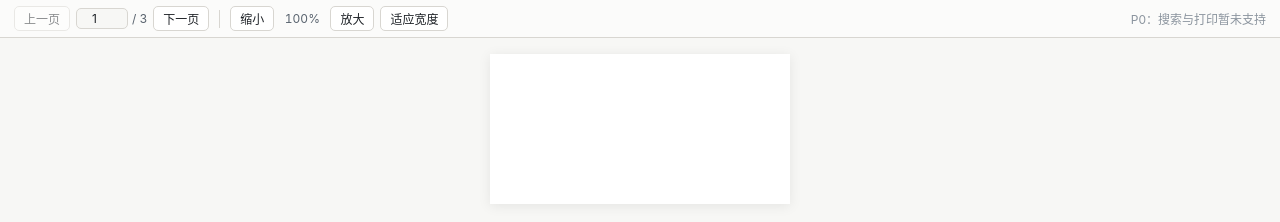
it: PdfViewer › navigates pages with buttons
The width and height of the screenshot is (1280, 222).
Click the button "下一页".
click(181, 18)  # box [153,6,209,31]
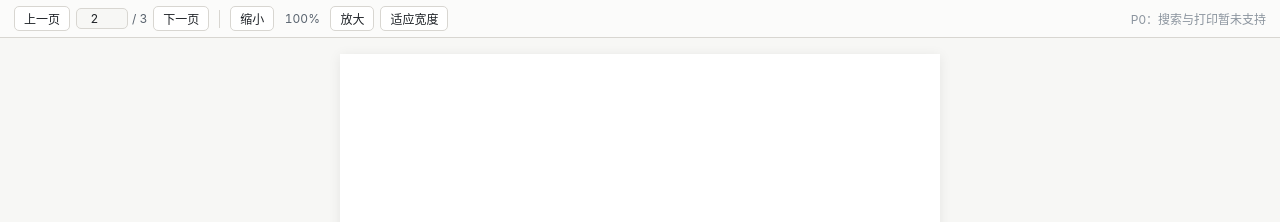
Now the number field named "页码" holds "2", box [76,8,128,29]
Click the button "上一页".
click(42, 18)  # box [14,6,70,31]
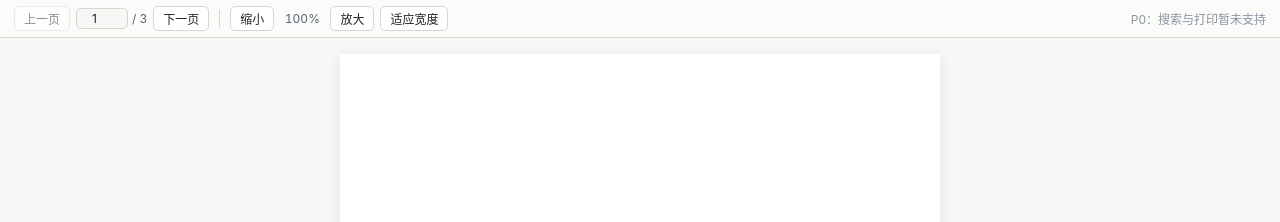
Now the number field named "页码" holds "1", box [76,8,128,29]
